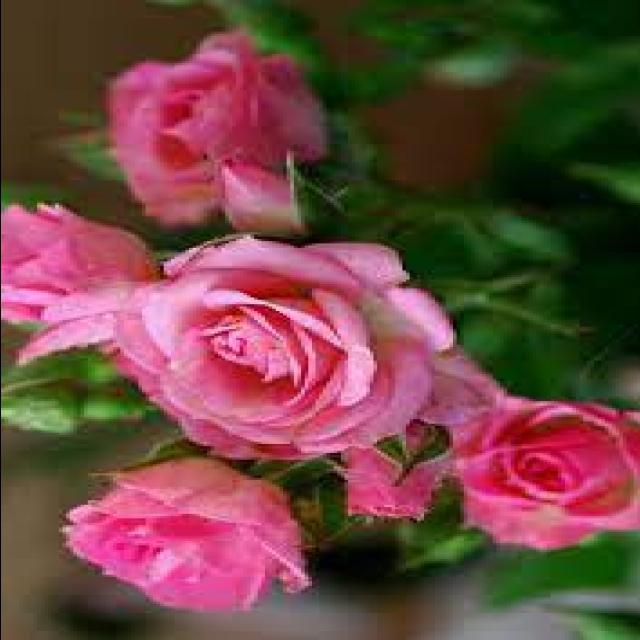rose: (109, 234, 472, 476)
